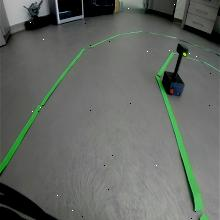green: (176, 42, 189, 58)
